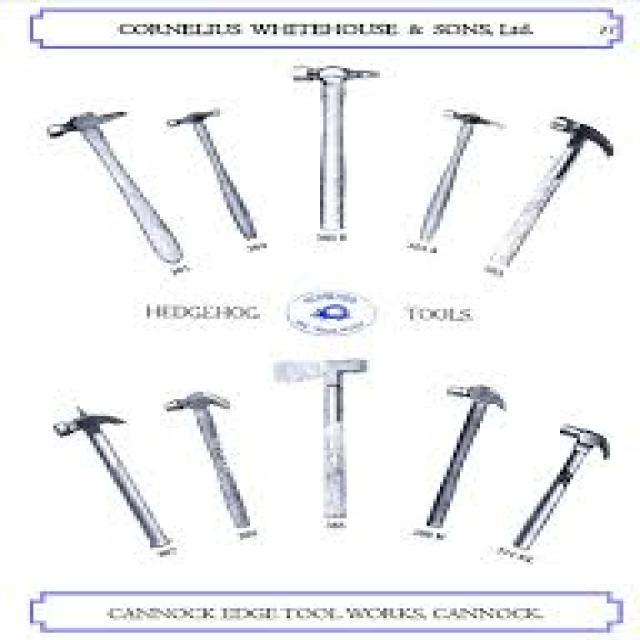Palu: (36, 100, 192, 280), (35, 415, 189, 573), (268, 349, 376, 537), (282, 55, 387, 243), (489, 112, 609, 271), (418, 362, 507, 554), (156, 389, 262, 548), (513, 424, 618, 562), (158, 114, 266, 238), (416, 102, 492, 245)
